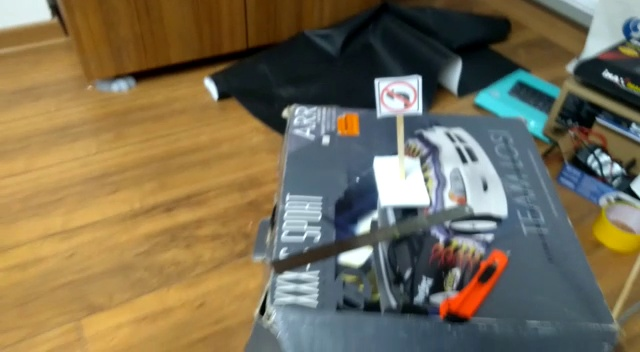sola_donulmez: (378, 77, 419, 115)
